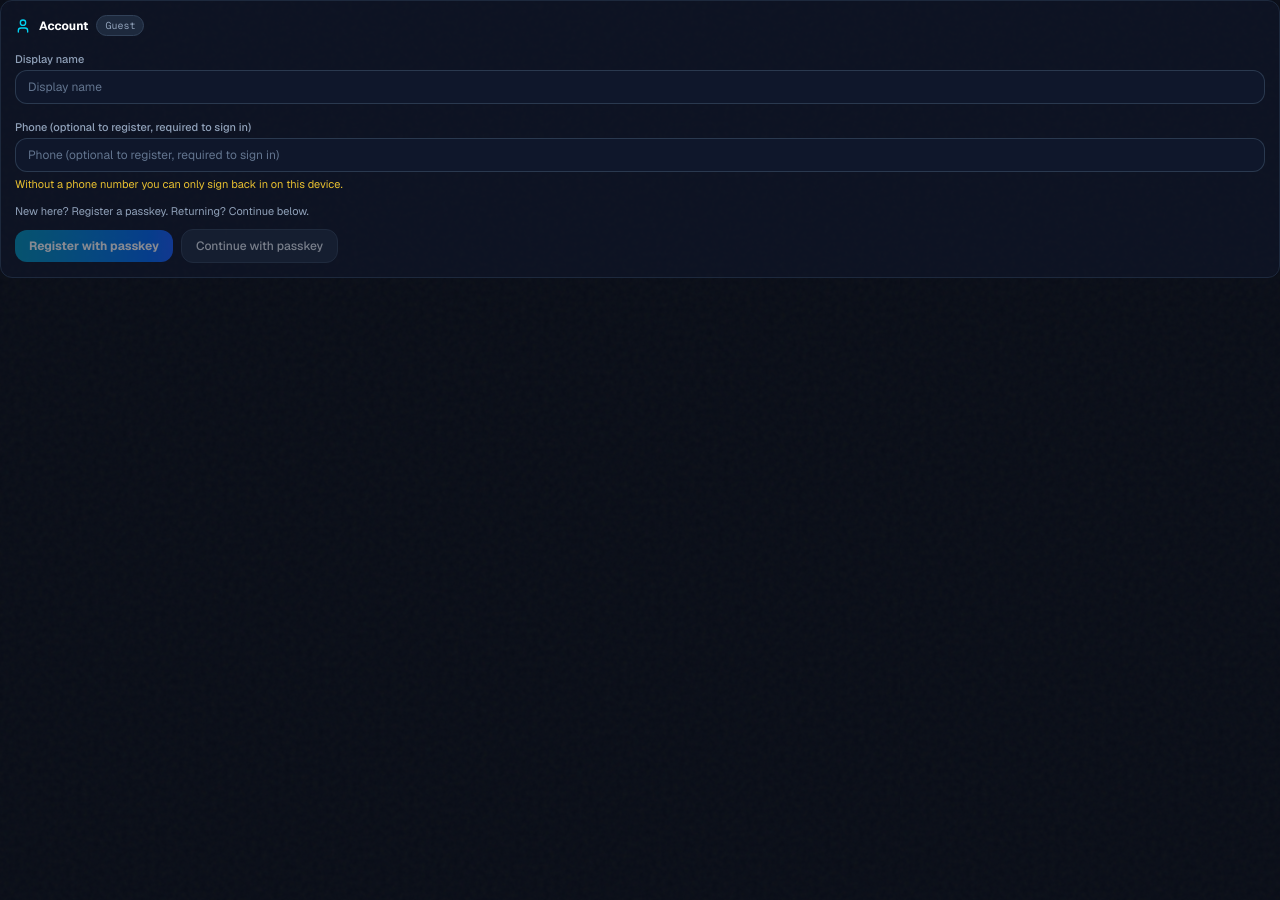
ceremony cancel › cancelling releases the UI and ignores the late completion
The width and height of the screenshot is (1280, 900).
Type "Uji" into the field labelled "Display name" at (640, 87), box [15,70,1265,104]
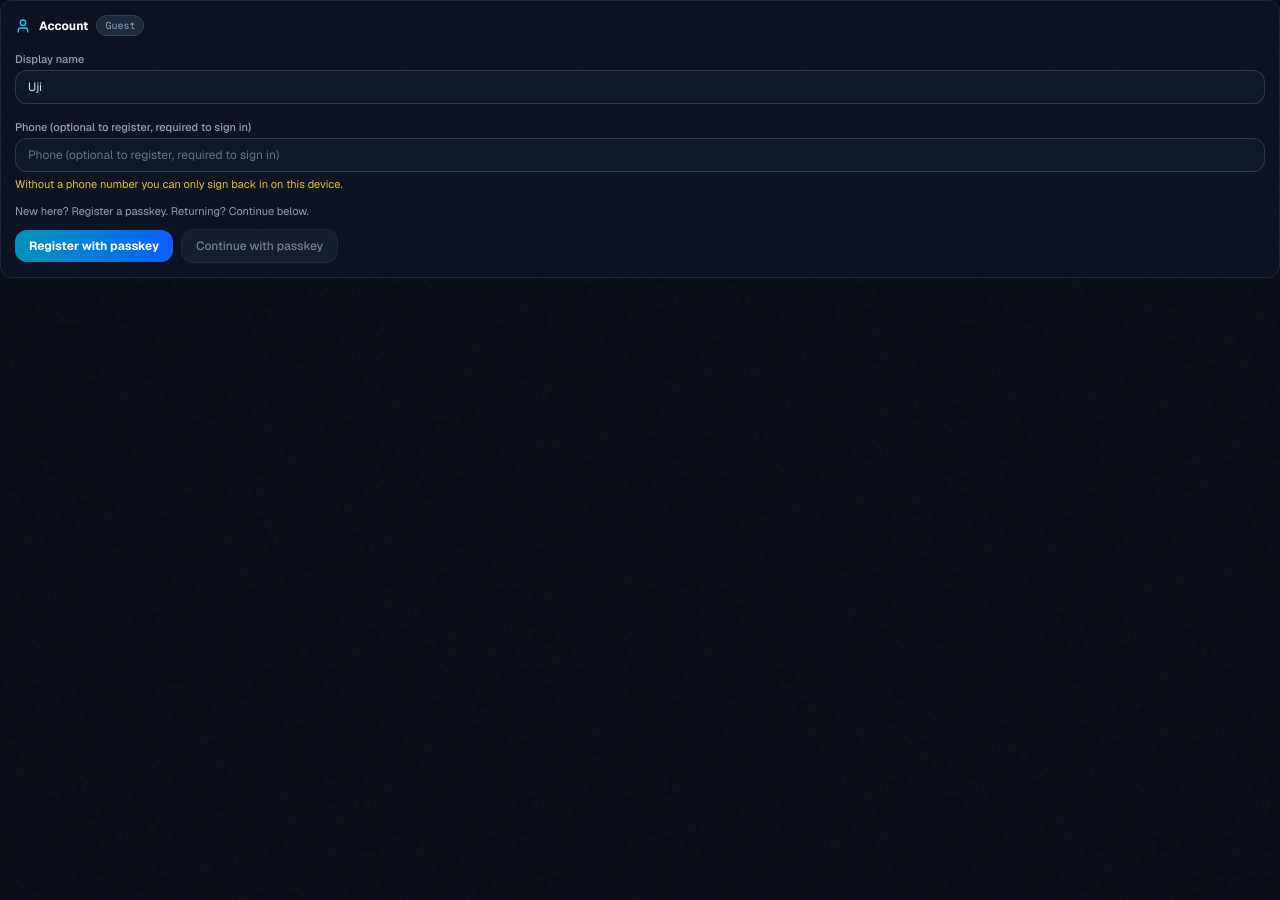
Click the button "Register with passkey" at (94, 246), box [15,230,173,262]
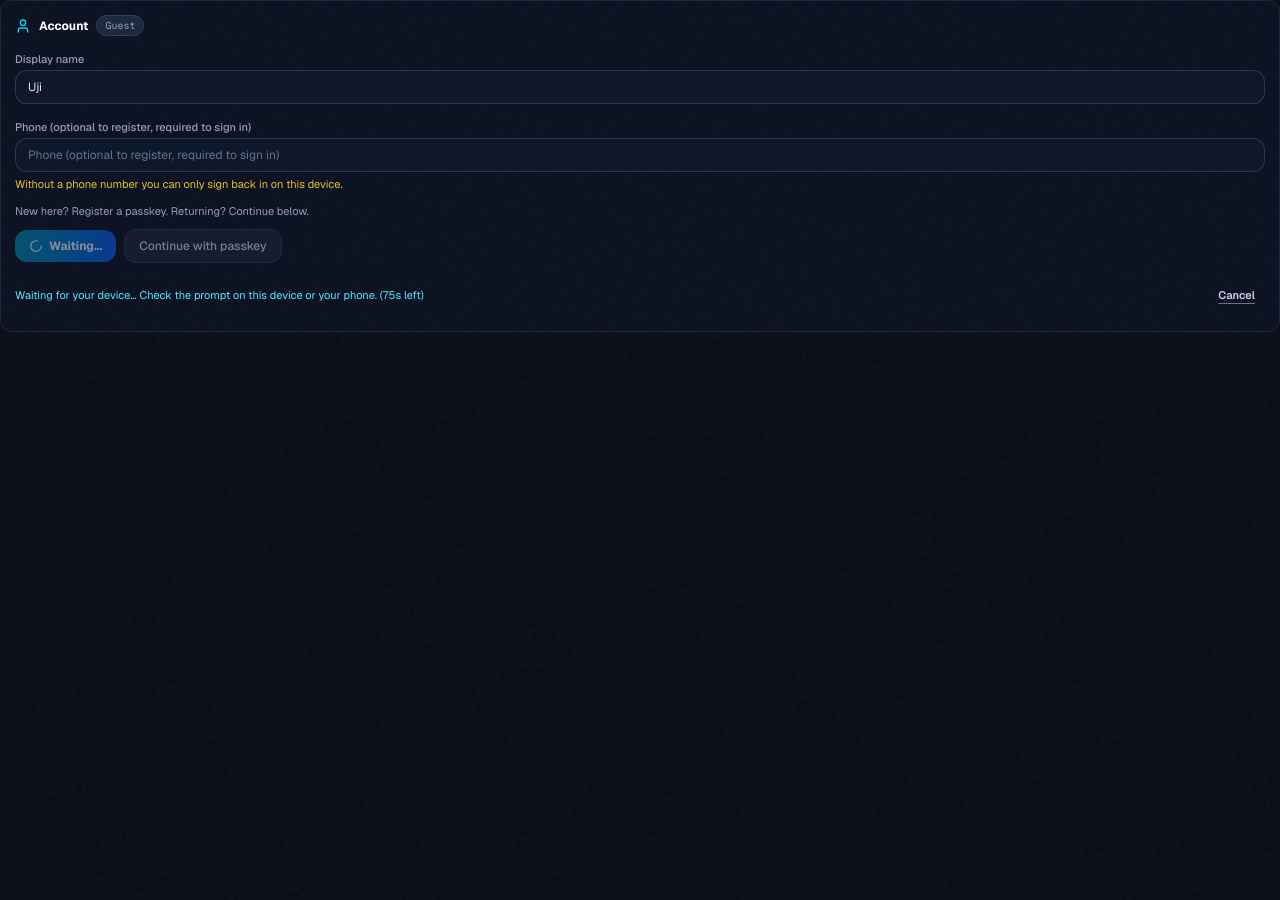
Click the button "Cancel" at (1237, 295), box [1208,273,1265,317]
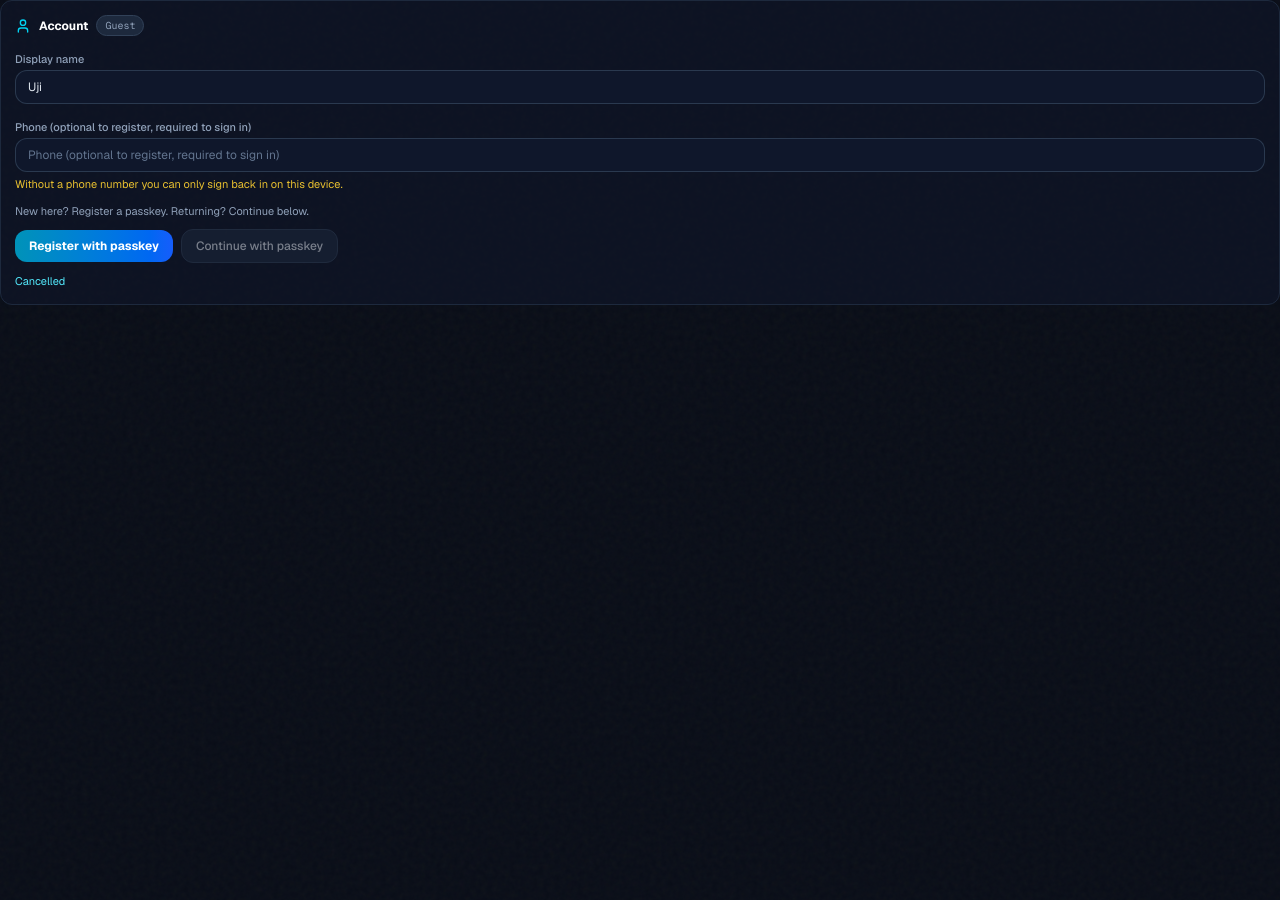
Expected: the text "Cancelled" is shown, [15,274,65,288]
Expected: the text "Waiting for your device" is gone
Expected: the button "Register with passkey" is enabled, [15,230,173,262]
